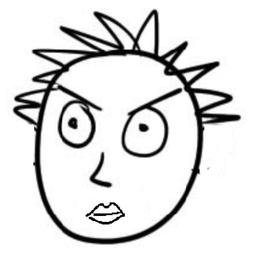cupid_mouth: (84, 196, 129, 229)
eye: (116, 109, 173, 157), (53, 98, 94, 155)
frowning_eyebrow: (128, 88, 182, 115), (57, 86, 102, 114)
pointy_nose: (80, 149, 117, 189)
